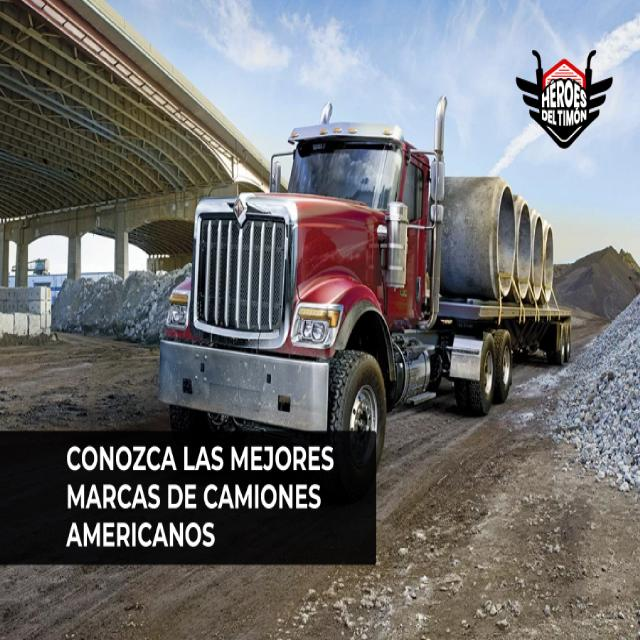TRUCK: (166, 96, 574, 446)
